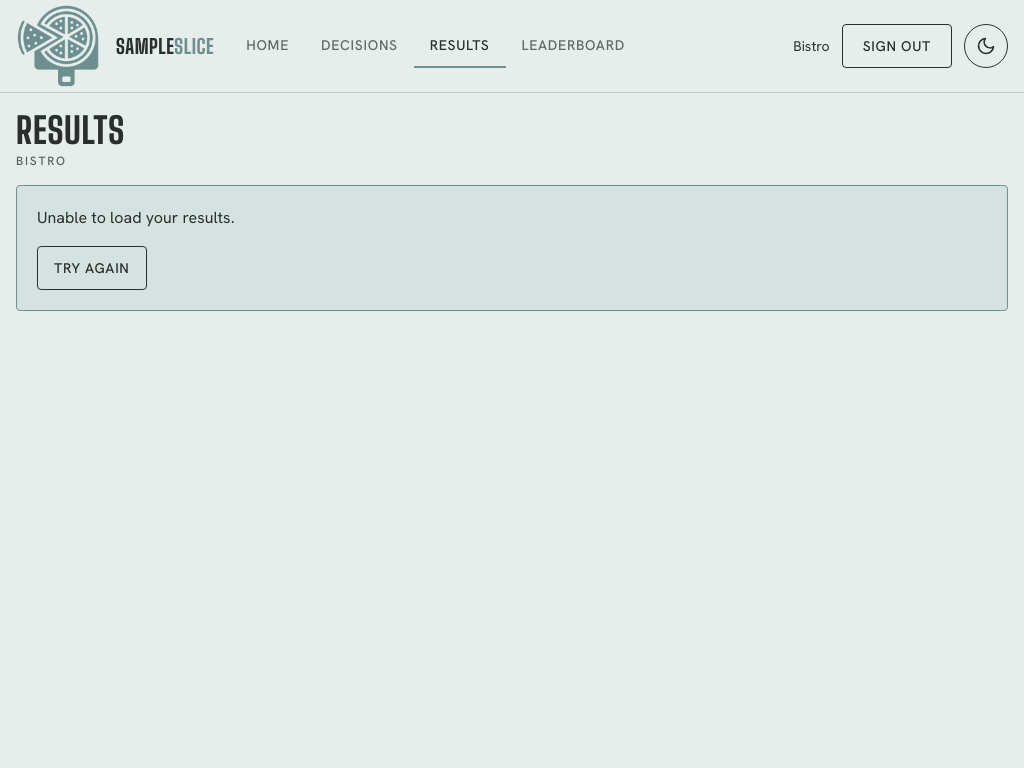
Test: reports an API failure and loads results after a retry
The image size is (1024, 768).
Expected: the message reads "Unable to load your results.", left=37, top=207, right=234, bottom=228
Click the button "Try again".
click(92, 268)  # box left=37, top=246, right=147, bottom=290
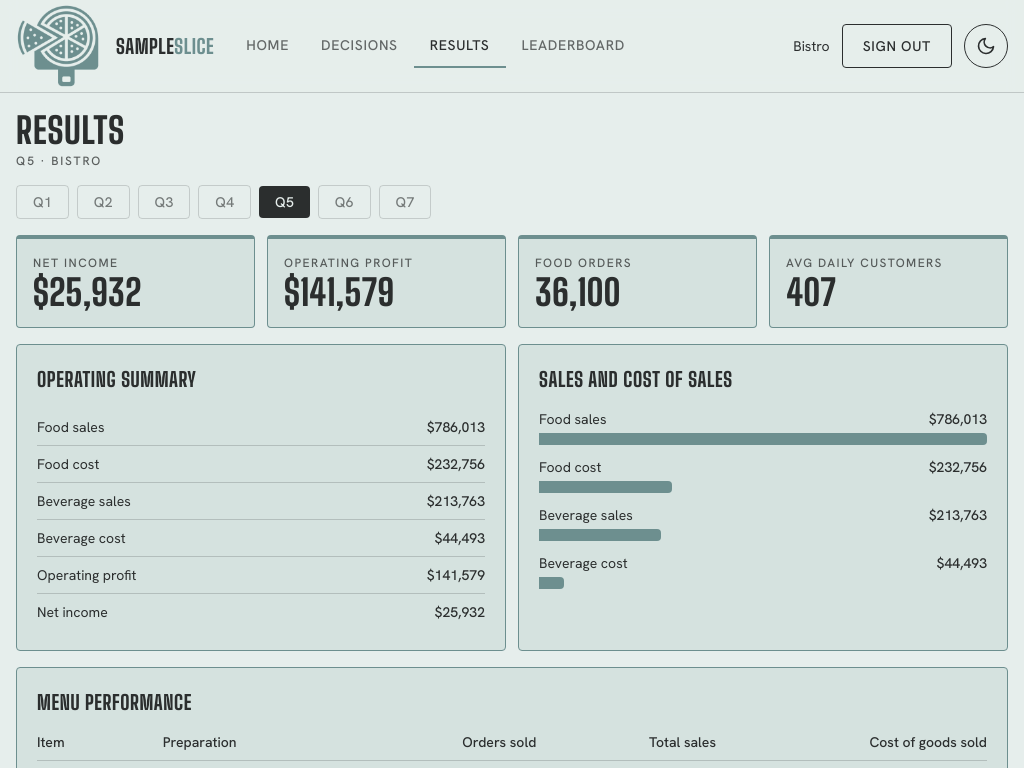
Expected: the table named "Q5 income statement amounts" is shown, left=37, top=409, right=485, bottom=630
